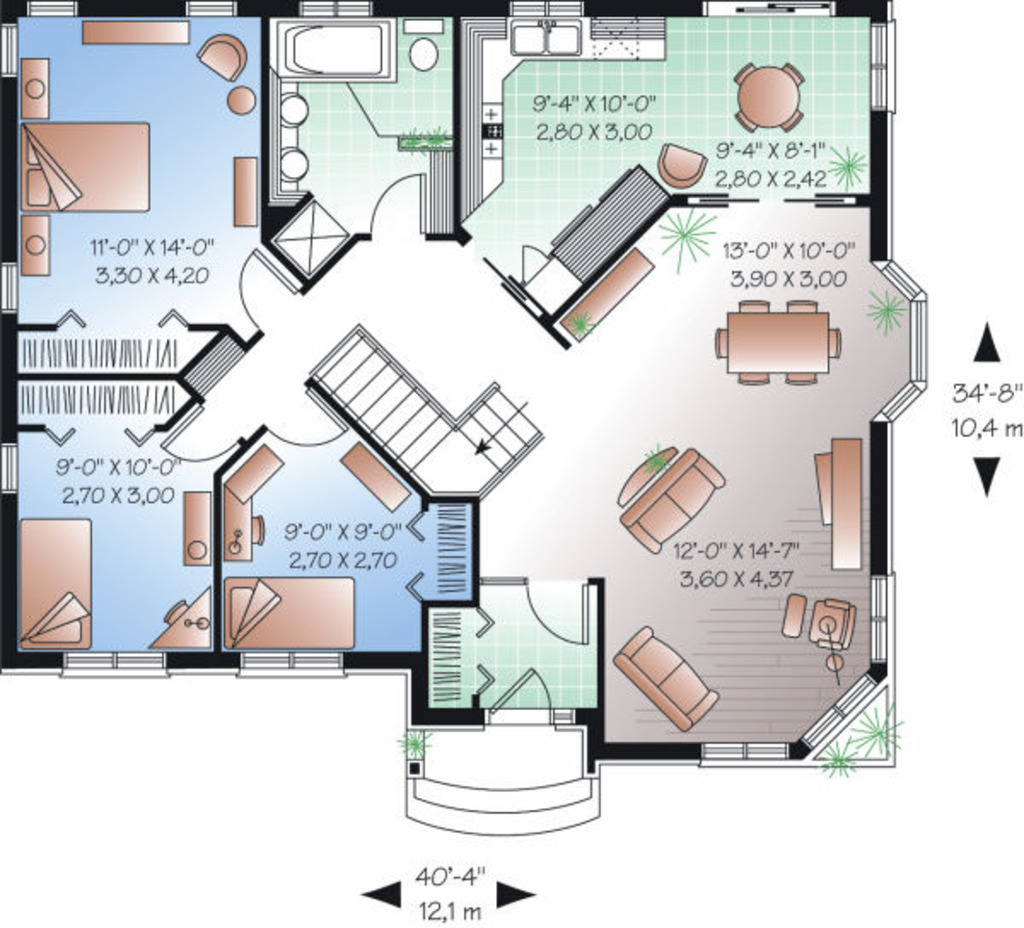bed: (10, 123, 162, 220), (214, 575, 359, 658), (24, 522, 94, 650)
dining_table: (712, 282, 849, 395)
door: (223, 245, 306, 342), (517, 568, 593, 648), (263, 388, 350, 453), (160, 396, 233, 472), (363, 176, 427, 245), (494, 672, 560, 728)
large_sink: (400, 16, 453, 75)
large_sofa: (619, 435, 737, 565), (613, 612, 714, 732)
round_table: (727, 58, 816, 143)
small_sink: (277, 83, 313, 196)
stairs: (316, 308, 550, 503)
tub: (273, 22, 397, 82)
twin_sink: (506, 18, 593, 65)
window: (779, 667, 886, 762), (882, 259, 927, 422), (52, 643, 176, 676), (694, 739, 792, 768), (870, 15, 894, 118), (867, 570, 889, 663), (183, 1, 239, 19), (1, 258, 17, 309), (22, 2, 76, 16)
